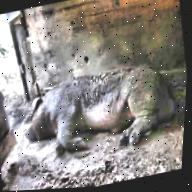boar: (14, 54, 178, 165)
